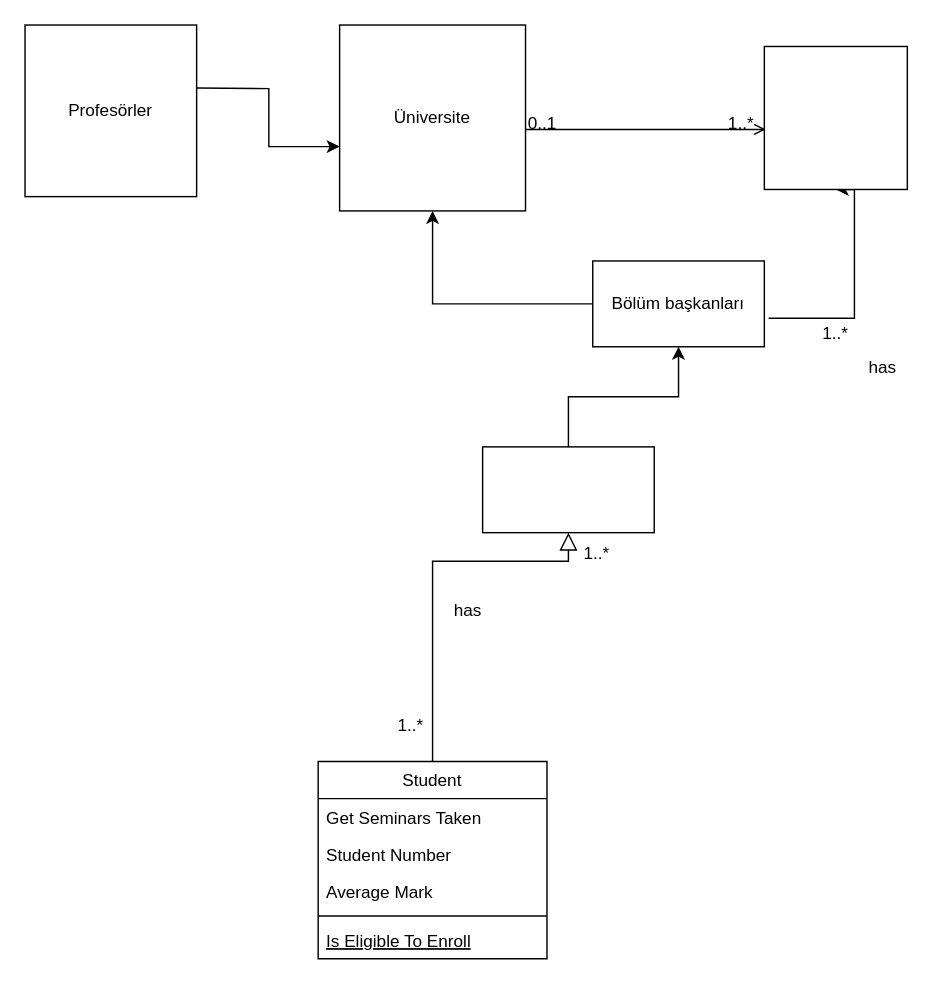
This 951x988 diagram has some shape labels left out. The shapes that lost their labels are listed below. From the top down, each one's centre as x and y in pixels, then its label:
pixel 835 117: Departman
pixel 567 489: Öğrenci İşleri.
